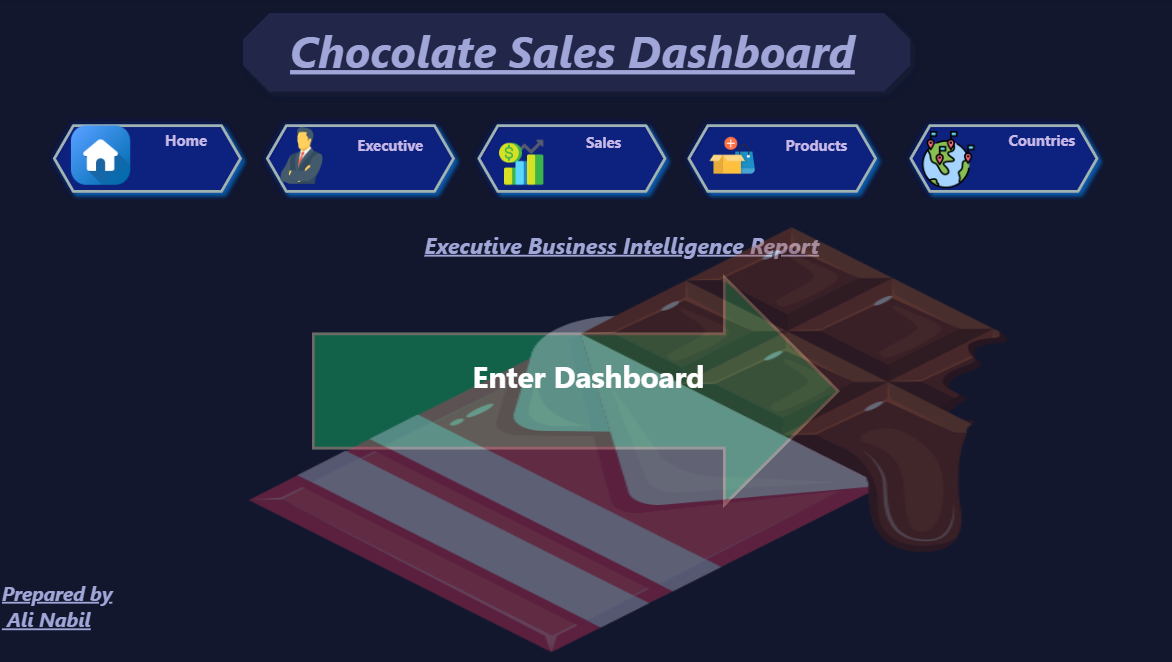

Layout of this report page (visuals, bound fields, positions):
{"tool":"powerbi","page":{"name":"Home","canvas":[1280,720],"ordinal":0},"visuals":[{"type":"shape","box":[0,0,2297.7,1097.8],"z":0},{"type":"actionButton","box":[282.1,127.9,221.1,90.7],"z":1000},{"type":"shape","box":[249,0,752.9,117.4],"z":2000},{"type":"textbox","box":[348.1,142.5,157.1,45.3],"z":3000},{"type":"actionButton","box":[510.8,127.9,221.1,90.7],"z":4000},{"type":"actionButton","box":[340,297.9,570,252.6],"z":5000},{"type":"image","box":[282.9,140.1,90.8,61.2],"z":6000},{"type":"actionButton","box":[736.7,127.9,221.8,90.7],"z":7000},{"type":"textbox","box":[295.5,18.2,649.7,99.2],"z":8000},{"type":"actionButton","box":[977.1,127.9,221.1,90.7],"z":9000},{"type":"textbox","box":[0,244.5,1348.8,87.4],"z":10000},{"type":"actionButton","box":[51.8,127.9,221.1,90.7],"z":11000},{"type":"image","box":[195.9,233.2,969.9,487.4],"z":12000},{"type":"textbox","box":[136.4,137.5,136.2,68.9],"z":13000},{"type":"textbox","box":[368.3,380,541.7,73.3],"z":14000},{"type":"image","box":[74.5,137.5,74.3,63.8],"z":15000},{"type":"textbox","box":[0,621.8,195.9,98.8],"z":16000},{"type":"image","box":[526.2,149,79.3,56.7],"z":17000},{"type":"textbox","box":[575.8,140.1,160.9,48.5],"z":18000},{"type":"textbox","box":[819.3,142.5,134.4,35.6],"z":19000},{"type":"image","box":[767.5,131.2,51.8,77.7],"z":20000},{"type":"textbox","box":[1060.6,137.6,134.4,50.2],"z":21000},{"type":"image","box":[990.5,142.6,72.2,63.8],"z":22000}]}

Visuals, with their boxes in screenshot pixels (x1, y1, x2, y2), scaled from the page's 1280x720 canvas onto the 1172x662 screenshot:
shape: (x1=0, y1=0, x2=1171, y2=661)
actionButton: (x1=258, y1=118, x2=461, y2=201)
shape: (x1=228, y1=0, x2=917, y2=108)
textbox: (x1=319, y1=131, x2=463, y2=173)
actionButton: (x1=468, y1=118, x2=670, y2=201)
actionButton: (x1=311, y1=274, x2=833, y2=506)
image: (x1=259, y1=129, x2=342, y2=185)
actionButton: (x1=675, y1=118, x2=878, y2=201)
textbox: (x1=271, y1=17, x2=865, y2=108)
actionButton: (x1=895, y1=118, x2=1097, y2=201)
textbox: (x1=0, y1=225, x2=1171, y2=305)
actionButton: (x1=47, y1=118, x2=250, y2=201)
image: (x1=179, y1=214, x2=1067, y2=661)
textbox: (x1=125, y1=126, x2=250, y2=190)
textbox: (x1=337, y1=349, x2=833, y2=417)
image: (x1=68, y1=126, x2=136, y2=185)
textbox: (x1=0, y1=572, x2=179, y2=661)
image: (x1=482, y1=137, x2=554, y2=189)
textbox: (x1=527, y1=129, x2=675, y2=173)
textbox: (x1=750, y1=131, x2=873, y2=164)
image: (x1=703, y1=121, x2=750, y2=192)
textbox: (x1=971, y1=127, x2=1094, y2=173)
image: (x1=907, y1=131, x2=973, y2=190)
